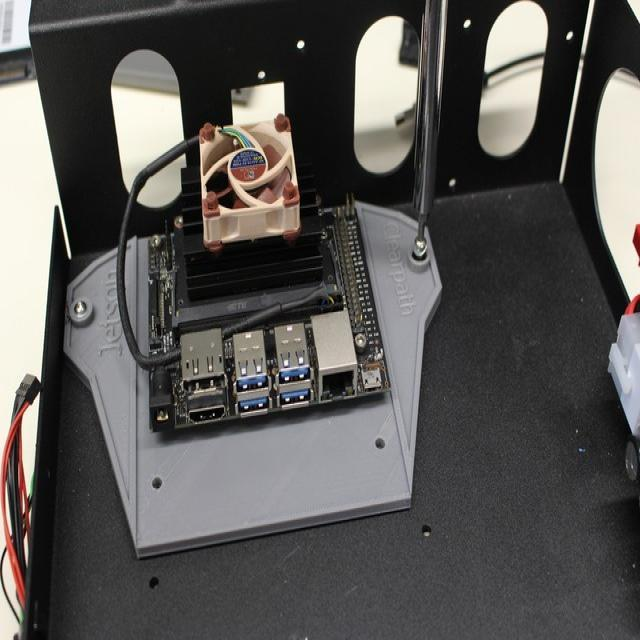Jetson Nano: (147, 115, 390, 430)
